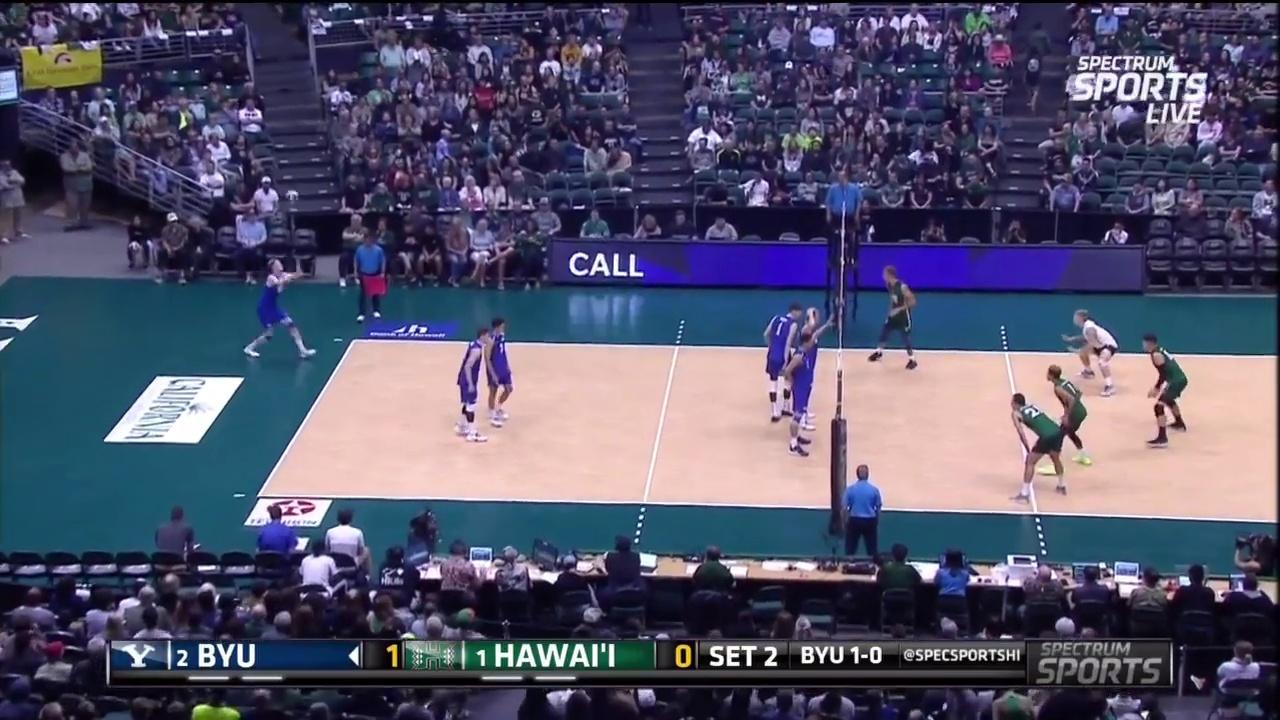player: (246, 259, 314, 359), (1012, 387, 1068, 504), (1038, 367, 1094, 472), (869, 267, 917, 368), (1145, 336, 1188, 446), (763, 302, 803, 417), (1068, 310, 1120, 394), (484, 315, 521, 426), (453, 329, 488, 446), (785, 334, 814, 461), (799, 307, 821, 429)
refree: (839, 462, 884, 559), (825, 166, 863, 261), (356, 230, 389, 320)
